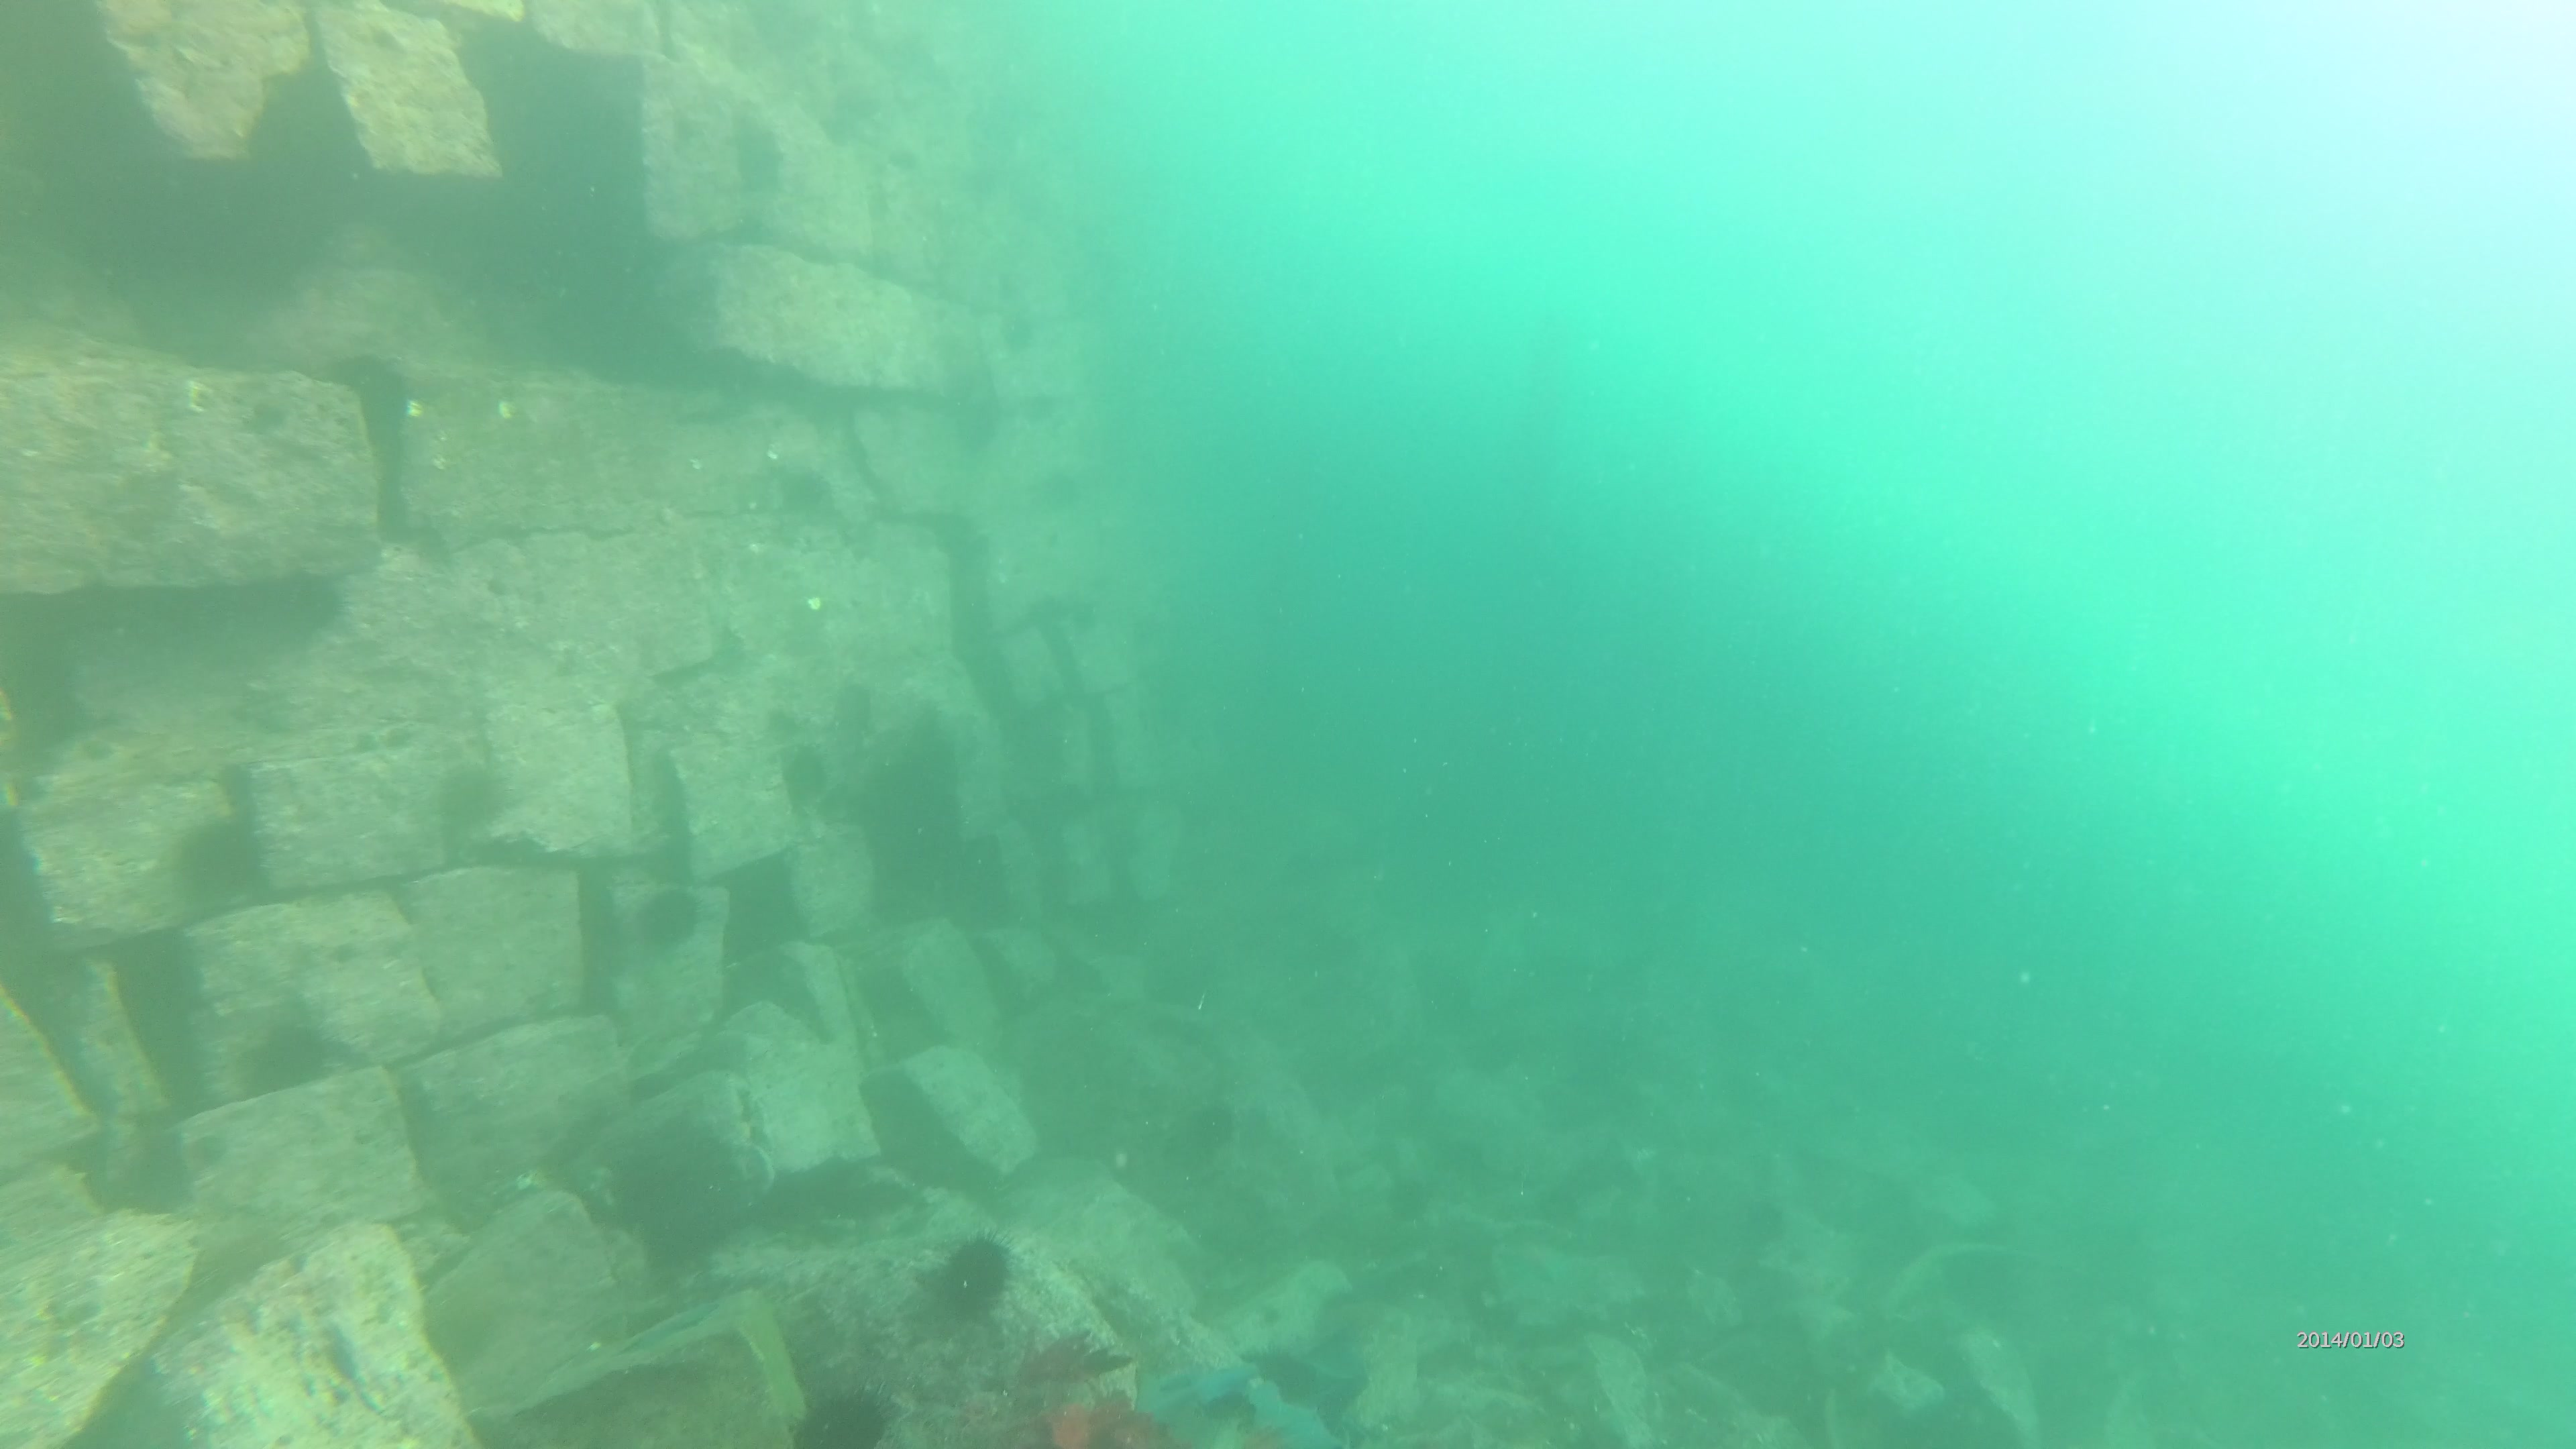echinus: (780, 1371, 918, 1449), (927, 1224, 1026, 1332), (235, 1007, 347, 1097), (764, 451, 849, 540), (341, 357, 419, 451), (189, 816, 269, 897), (635, 879, 708, 966), (435, 766, 518, 840), (1375, 1166, 1451, 1244), (725, 119, 791, 203), (775, 738, 839, 816), (1030, 464, 1090, 538), (1184, 1086, 1242, 1159), (1040, 771, 1104, 837), (816, 113, 860, 152)
